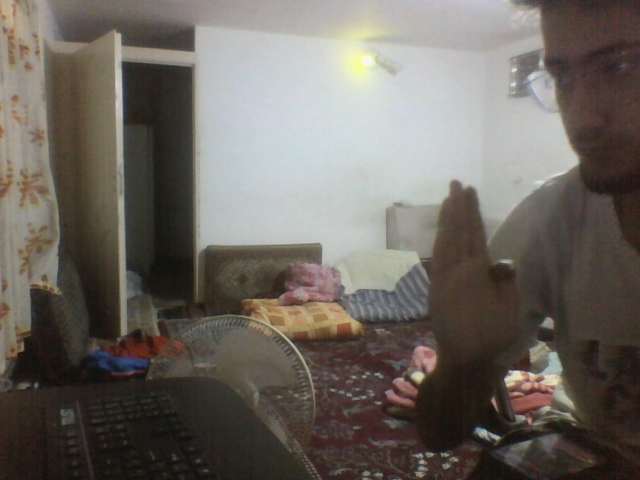sorat: (538, 1, 639, 195)
taslim: (430, 182, 518, 372)
